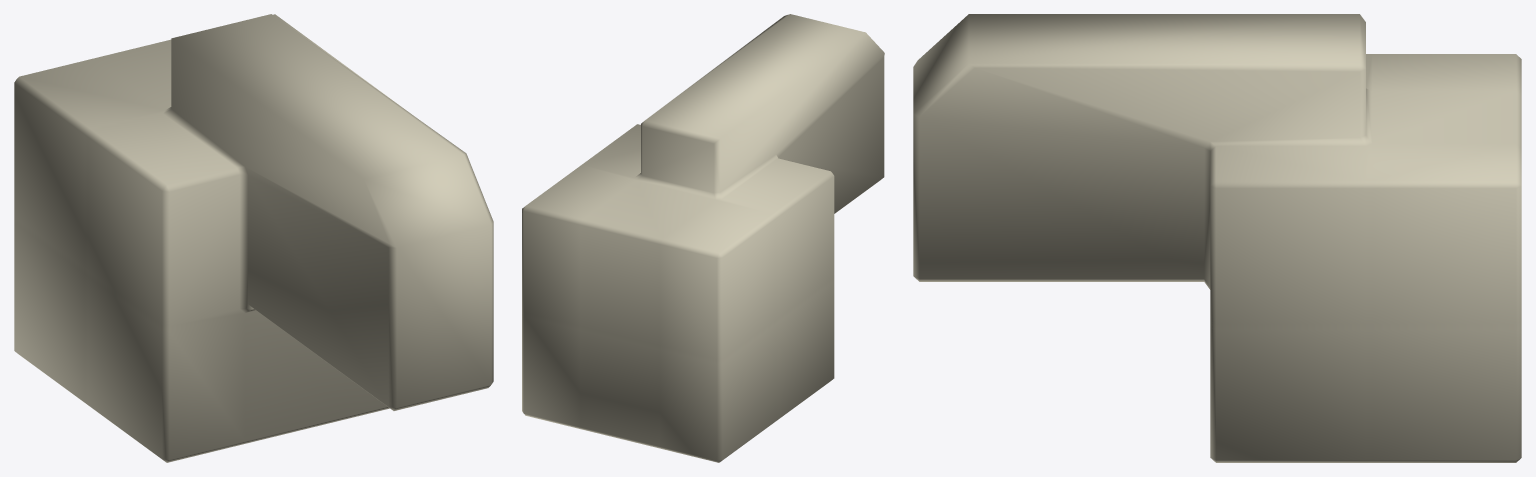
Rendered from cube_beveled.obj.
The picture shows the model from 3 angles, left to right: view 1: azimuth 30°, elevation 25°; view 2: azimuth 150°, elevation 25°; view 3: azimuth 270°, elevation 25°; orthographic projection. The views are drawn at different scales.
Parts seen in each view (by area): view 1: cube_beveled.obj; view 2: cube_beveled.obj; view 3: cube_beveled.obj.
Part boxes in pixels (box(x1,y1,x2,y2)): cube_beveled.obj: box(14, 14, 493, 462); cube_beveled.obj: box(522, 14, 884, 462); cube_beveled.obj: box(913, 14, 1521, 462).
Bounding box in the file's own units: 1 × 1.27 × 1.95.
